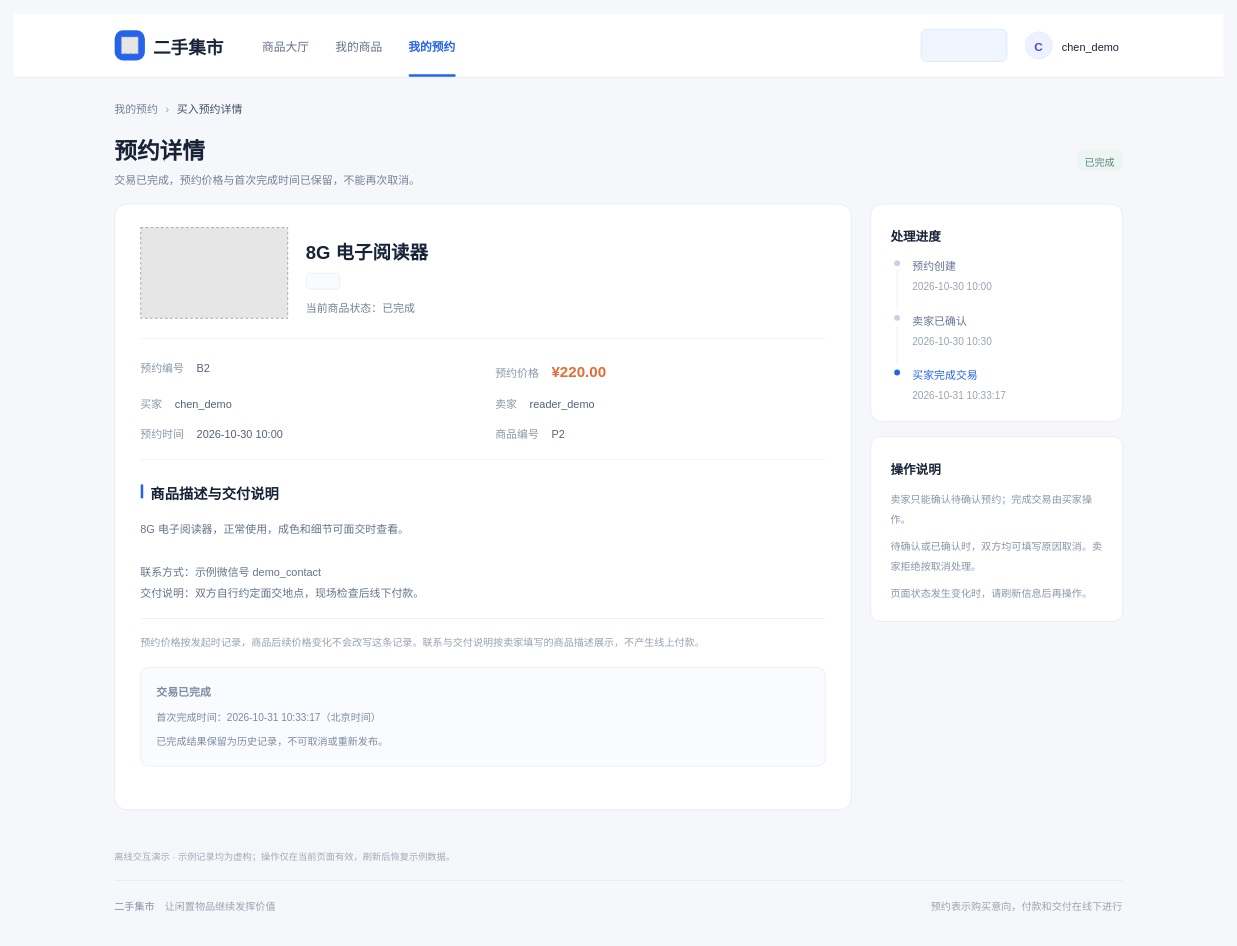
Some shapes in this 1237 by 946 pixel diagram are drawn without their labels. Grey dashed boxes stand in for pictures. Each missing label, with the centre of its shape:
"数码" goes at (322,280).
"＋ 发布商品" goes at (963,44).
